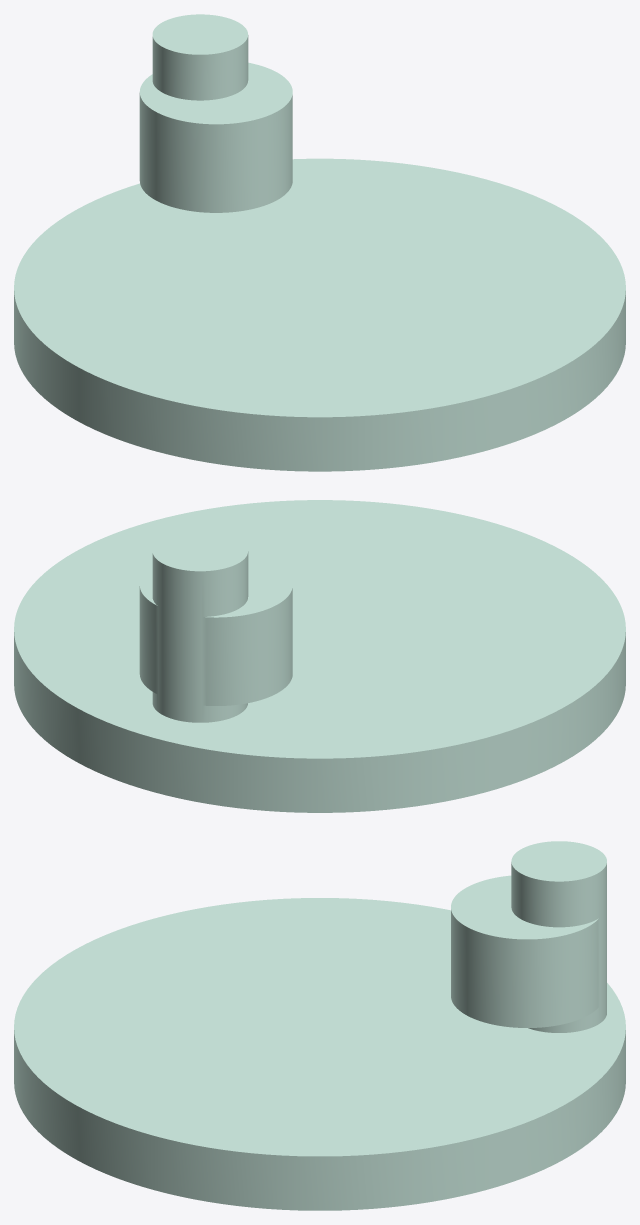
3 views of the same model, one above another, from view 1: azimuth 30°, elevation 25°; view 2: azimuth 150°, elevation 25°; view 3: azimuth 270°, elevation 25° (orthographic).
Visible parts, largest first — view 1: Renderer Node; view 2: Renderer Node; view 3: Renderer Node.
Boxes of the visible parts, x1,y1,x2,y2 form: Renderer Node: (14, 14, 625, 471); Renderer Node: (14, 500, 625, 812); Renderer Node: (14, 841, 625, 1210).
Bounding box in the file's own units: 1.52 × 0.6016 × 1.52.
